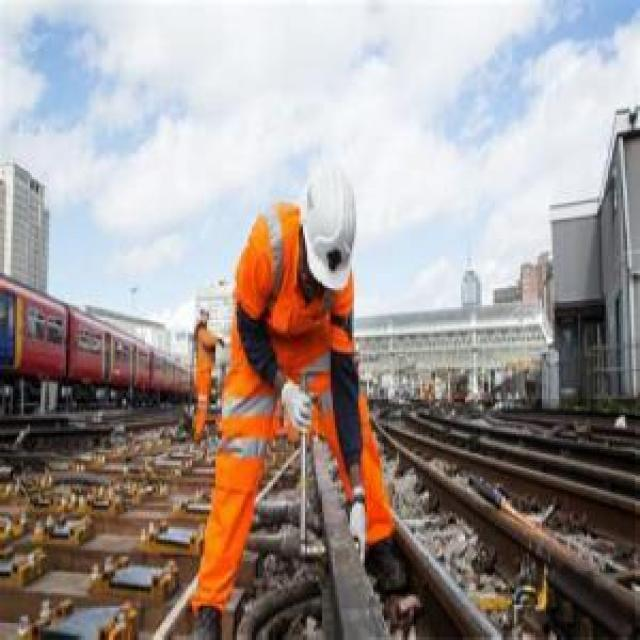rail: (371, 400, 636, 638)
